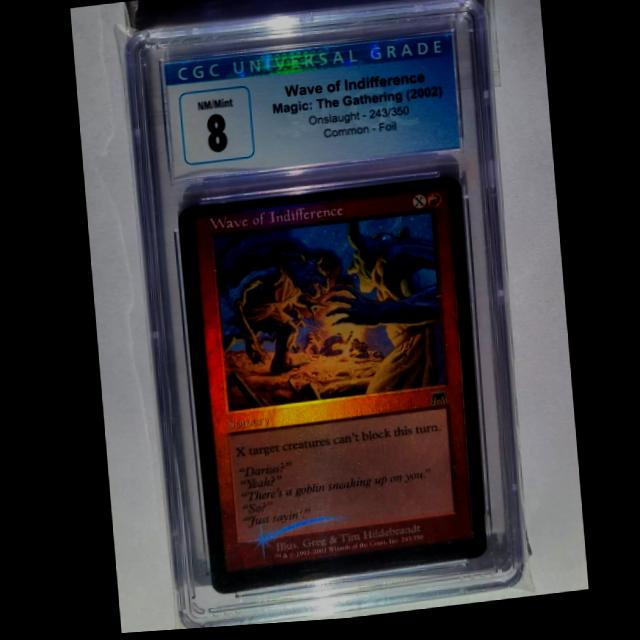card: (175, 183, 485, 598)
cgc_label_old: (163, 39, 460, 183)
cgc_slab: (123, 2, 523, 632)
